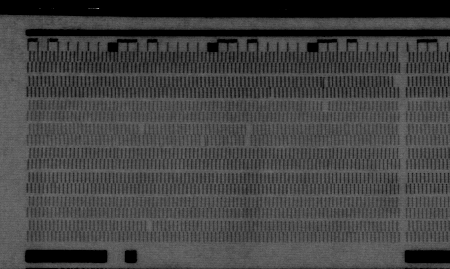Broken hole: (242, 123, 255, 149), (143, 219, 156, 234), (319, 102, 331, 113), (137, 124, 146, 137), (391, 74, 400, 87)
Oblique printing: (198, 135, 210, 148), (317, 75, 330, 87), (265, 87, 276, 101)
